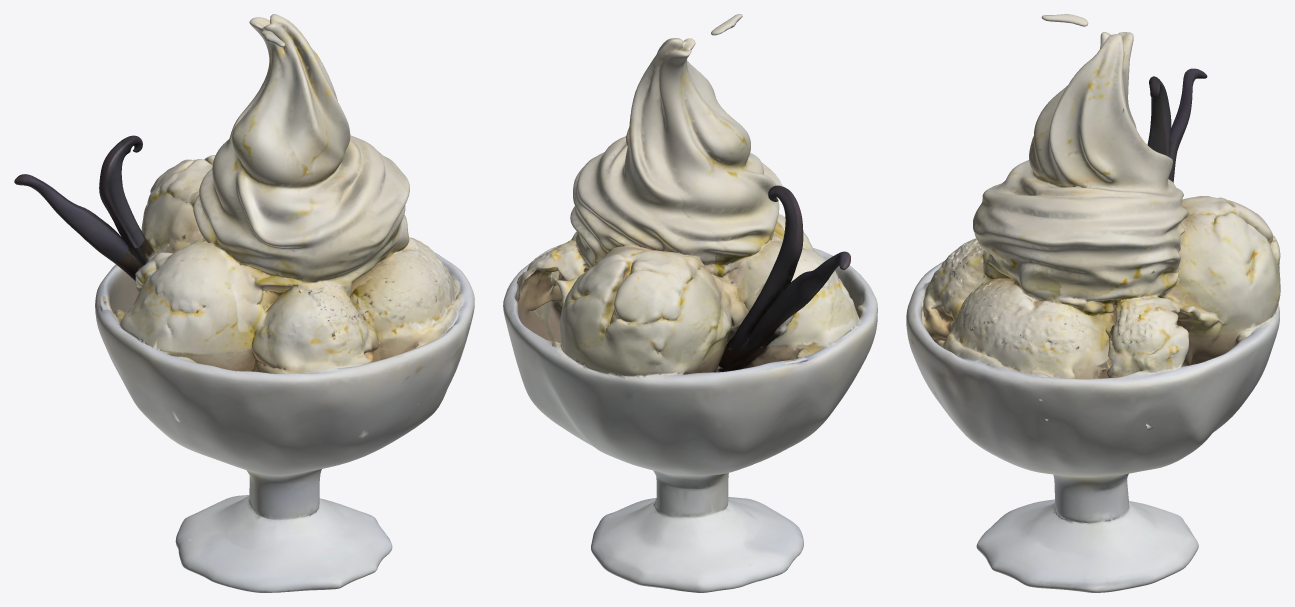
The model's file is Vanilla_Bean.glb.
The picture shows the model from 3 angles, left to right: view 1: azimuth 30°, elevation 25°; view 2: azimuth 150°, elevation 25°; view 3: azimuth 270°, elevation 25°; orthographic projection.
Bounding box in the file's own units: 1.49 × 1.99 × 1.29.
Materials: 1 (1 with a texture image).
